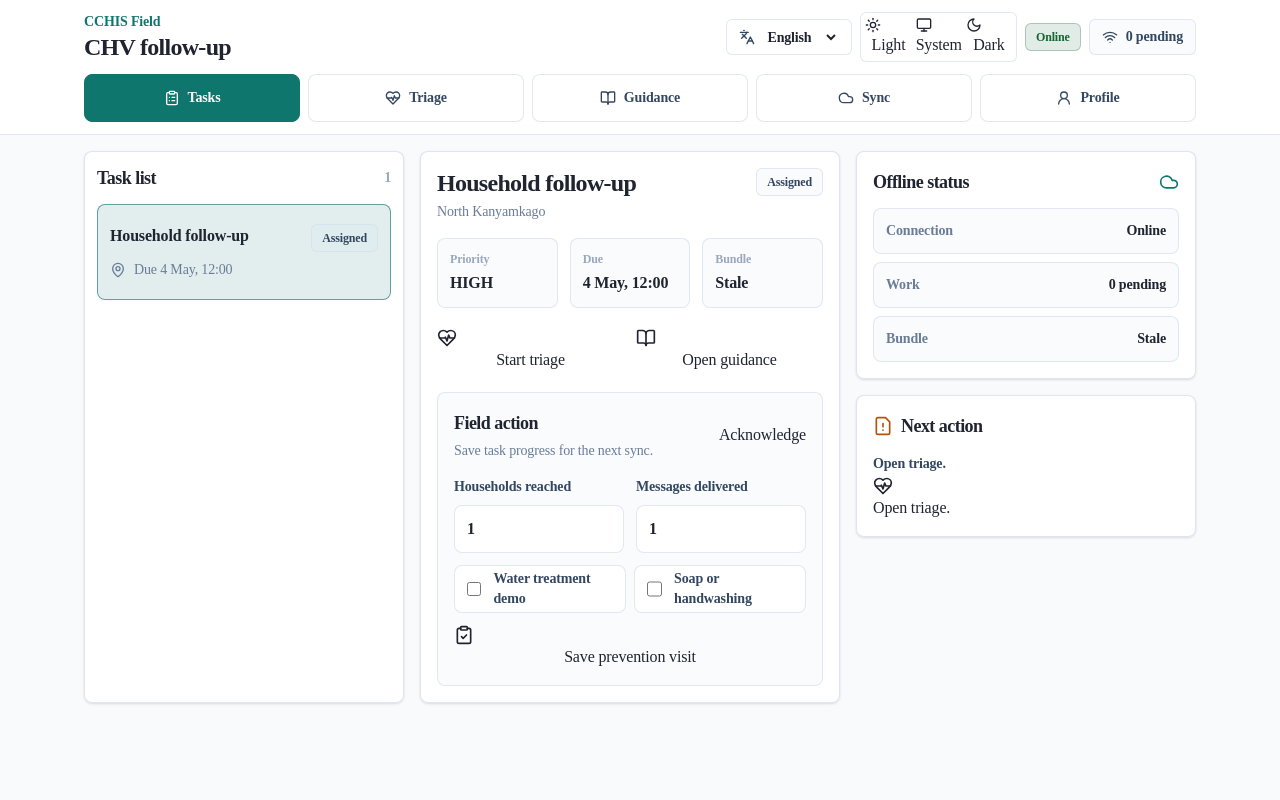
ChvOfflinePage › renders triage recommendation copy from the governed offline bundle
Click the button "Start triage" at (530,350), box [437,328,624,372]
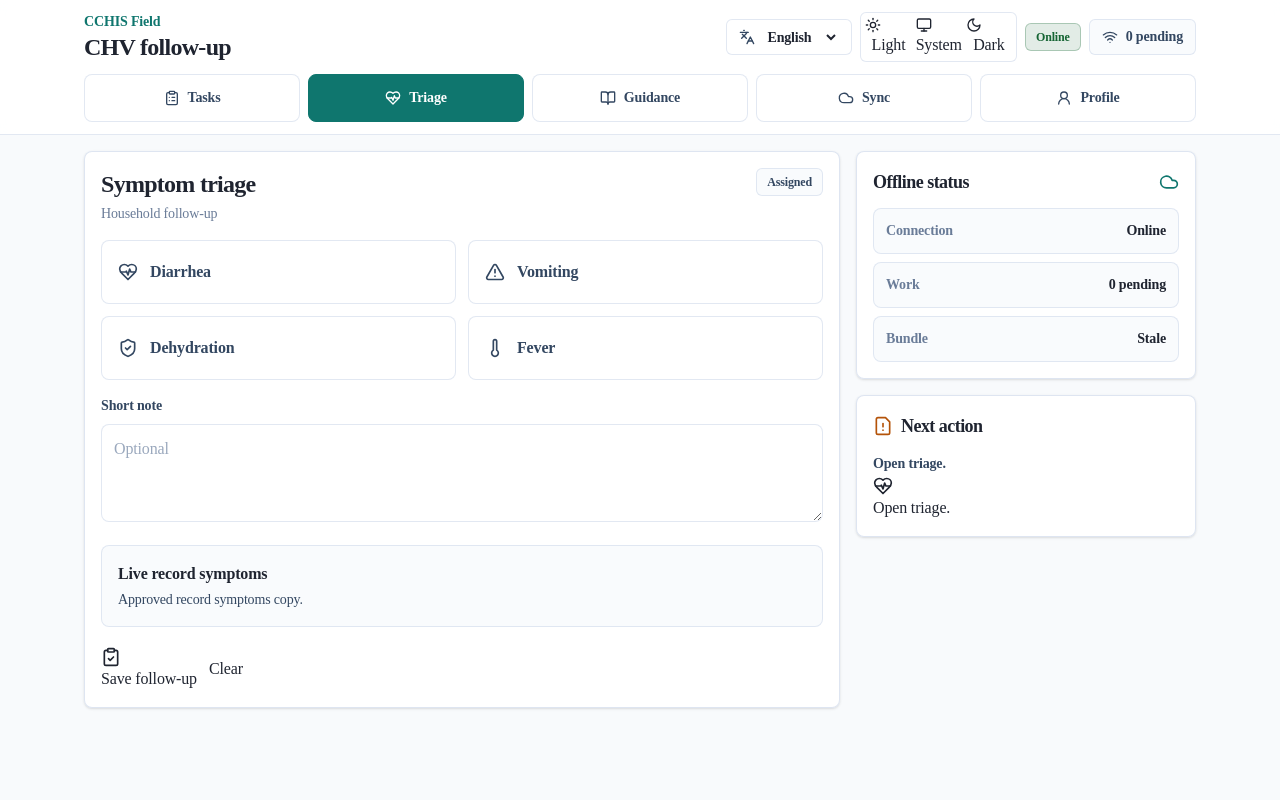
Click the button "Diarrhea" at (180,272), box [101,240,456,304]
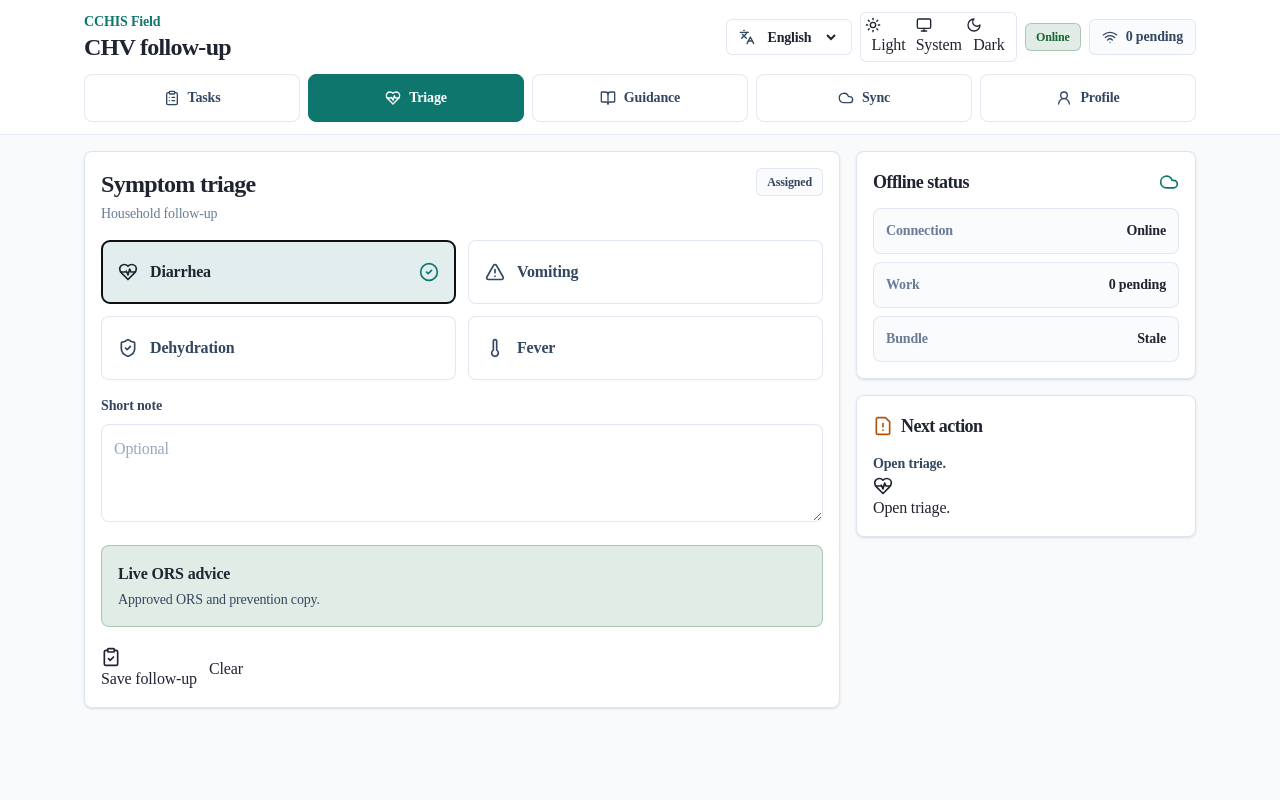
Check: the text "Live ORS advice" is shown, box [118,562,230,586]
Check: the text "Approved ORS and prevention copy." is shown, box [118,592,320,607]
